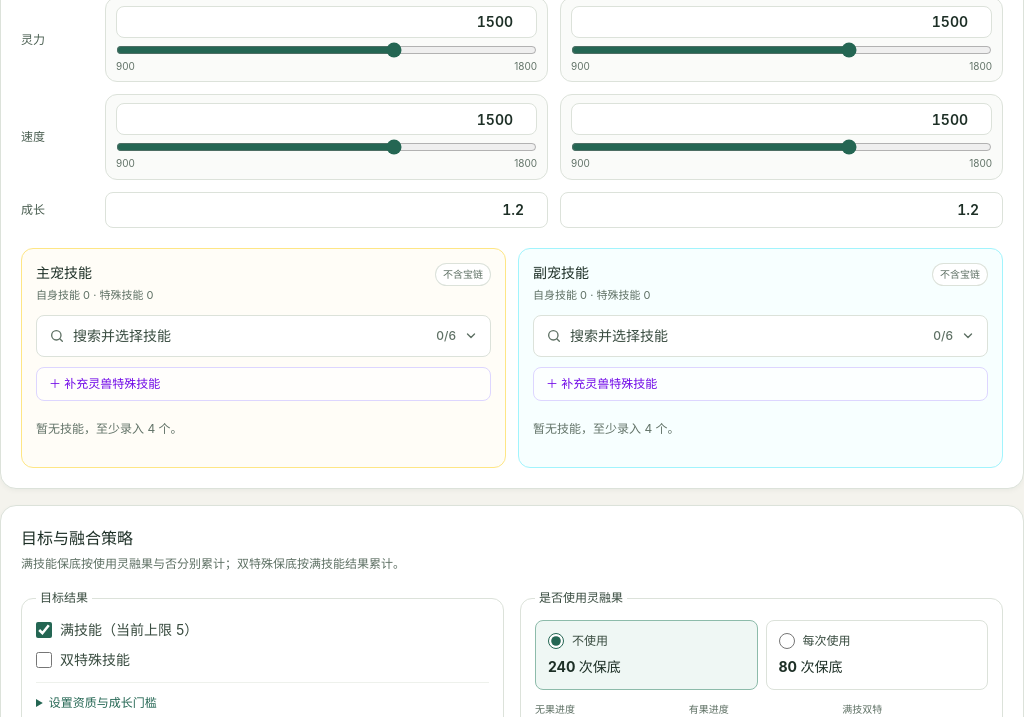
Test: SpiritBeastFusionSimulator › 仍可补充截图列表外的被动特殊技能
This screenshot has width=1024, height=717.
(page scrolled)
Click the heading "＋ 补充灵兽特殊技能" below "主宠技能": click(105, 384) [49,376,160,391]
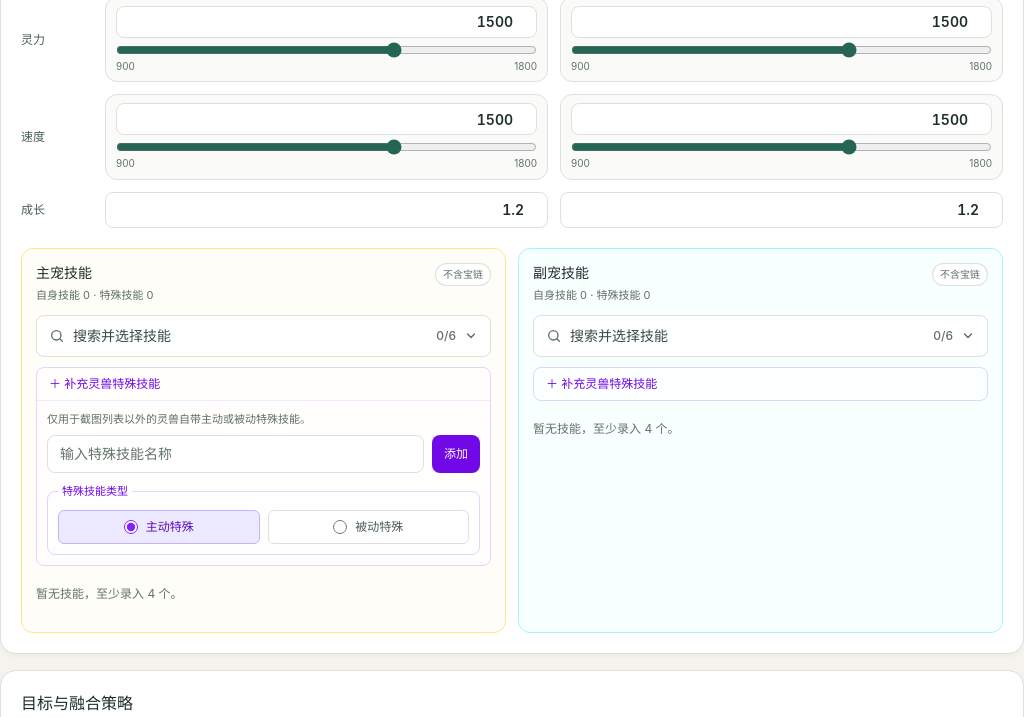
In the field named "主宠技能特殊技能名称": (236, 454) [47,435,424,473], type "月影奇袭"
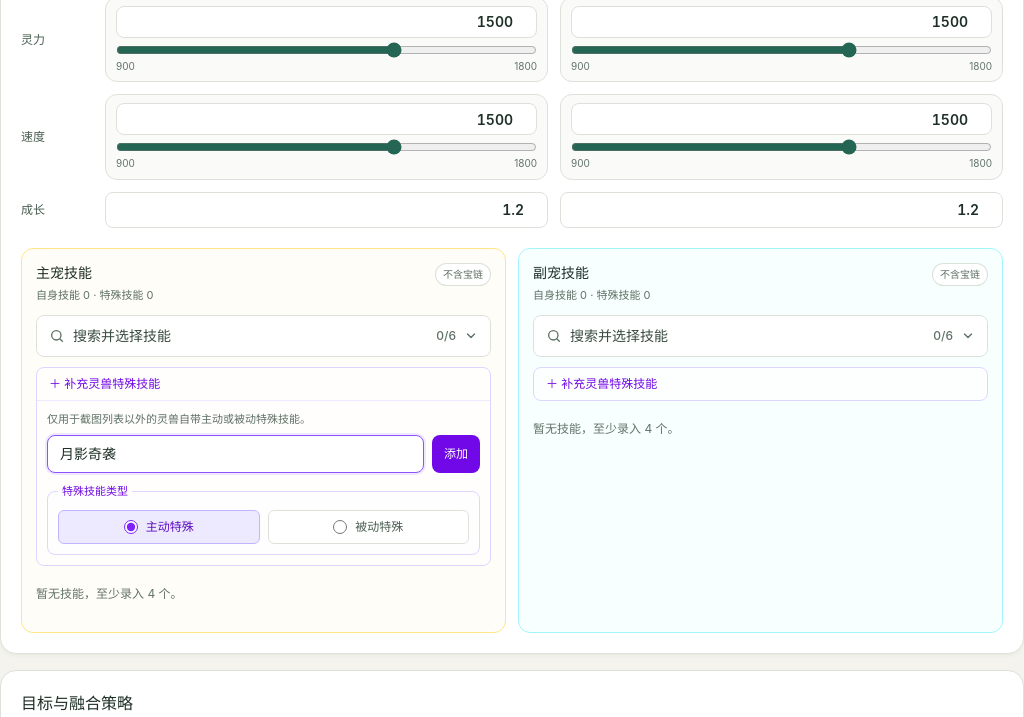
Click the radio button with aria-label "主宠技能被动特殊技能": click(340, 527) [333,520,347,534]
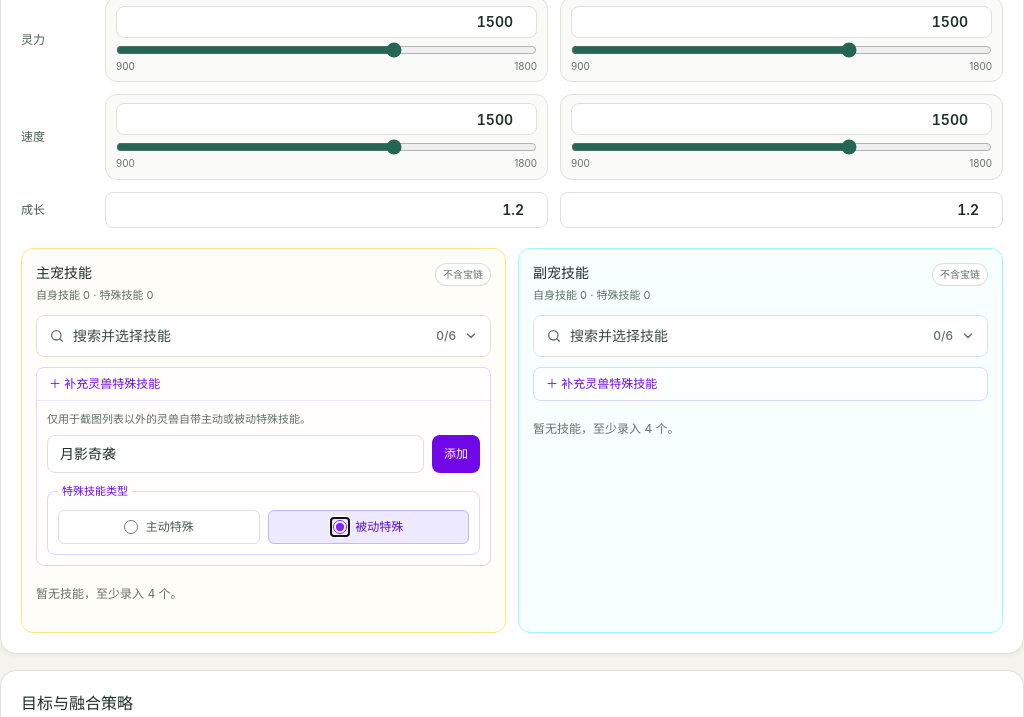
Click the button "添加": click(456, 454) [432,435,480,473]
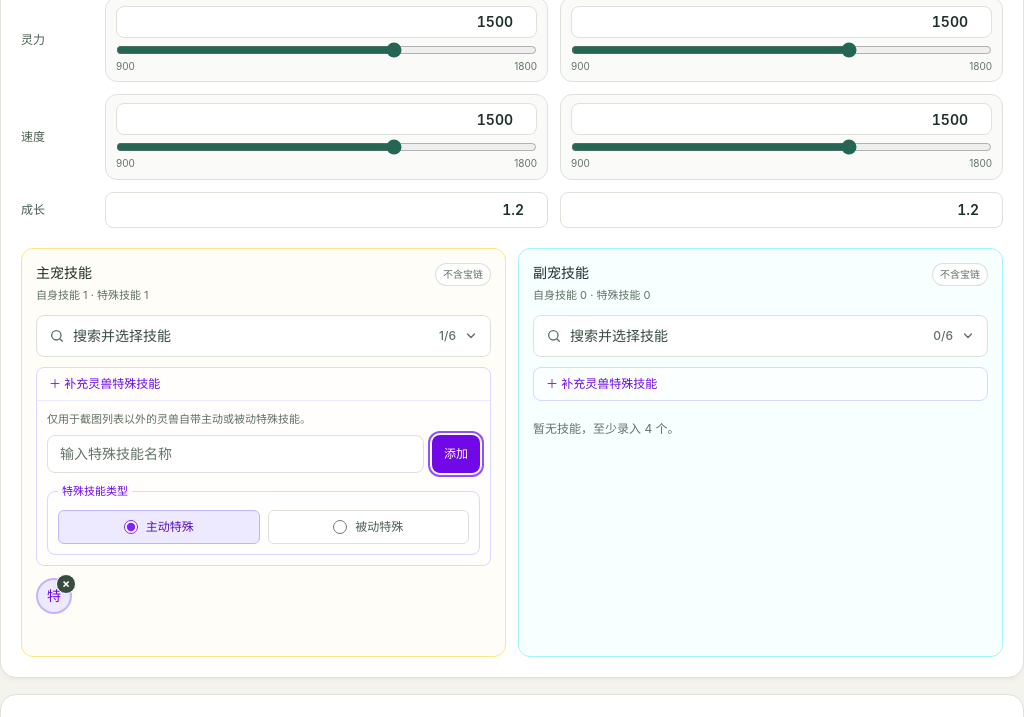
Expected: the text "被动特 · 月影奇袭" is not shown
Now the button named "查看被动特 · 月影奇袭技能名称" reads "特"
Click the button named "查看被动特 · 月影奇袭技能名称": click(54, 596) [36,578,72,614]
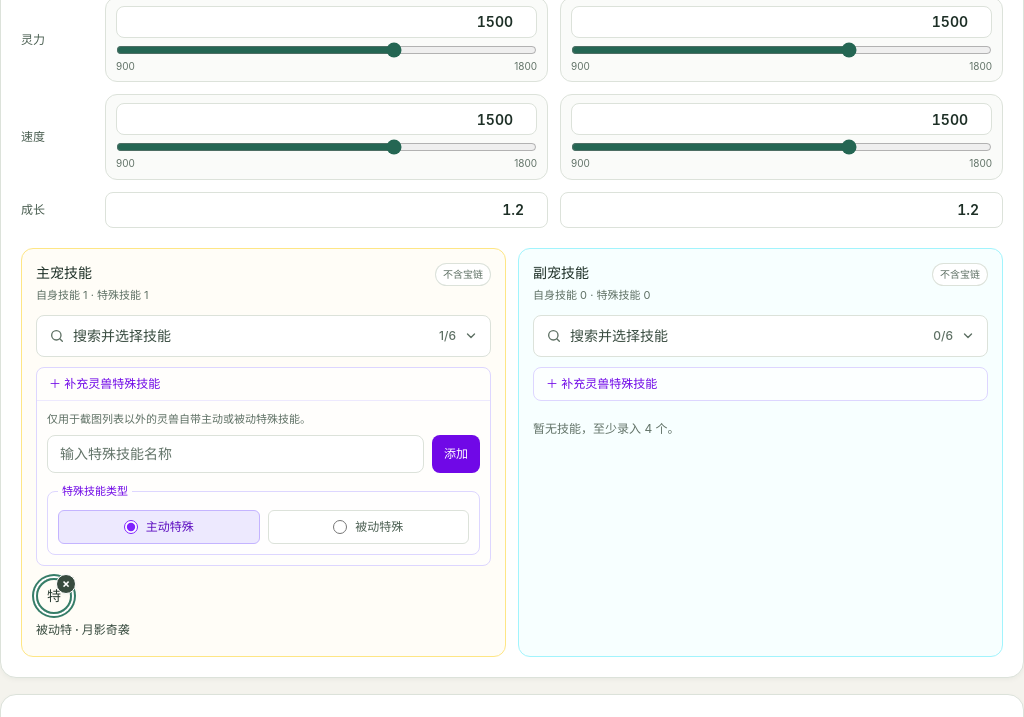
Now the text "被动特 · 月影奇袭" is shown, box [36,622,130,642]
